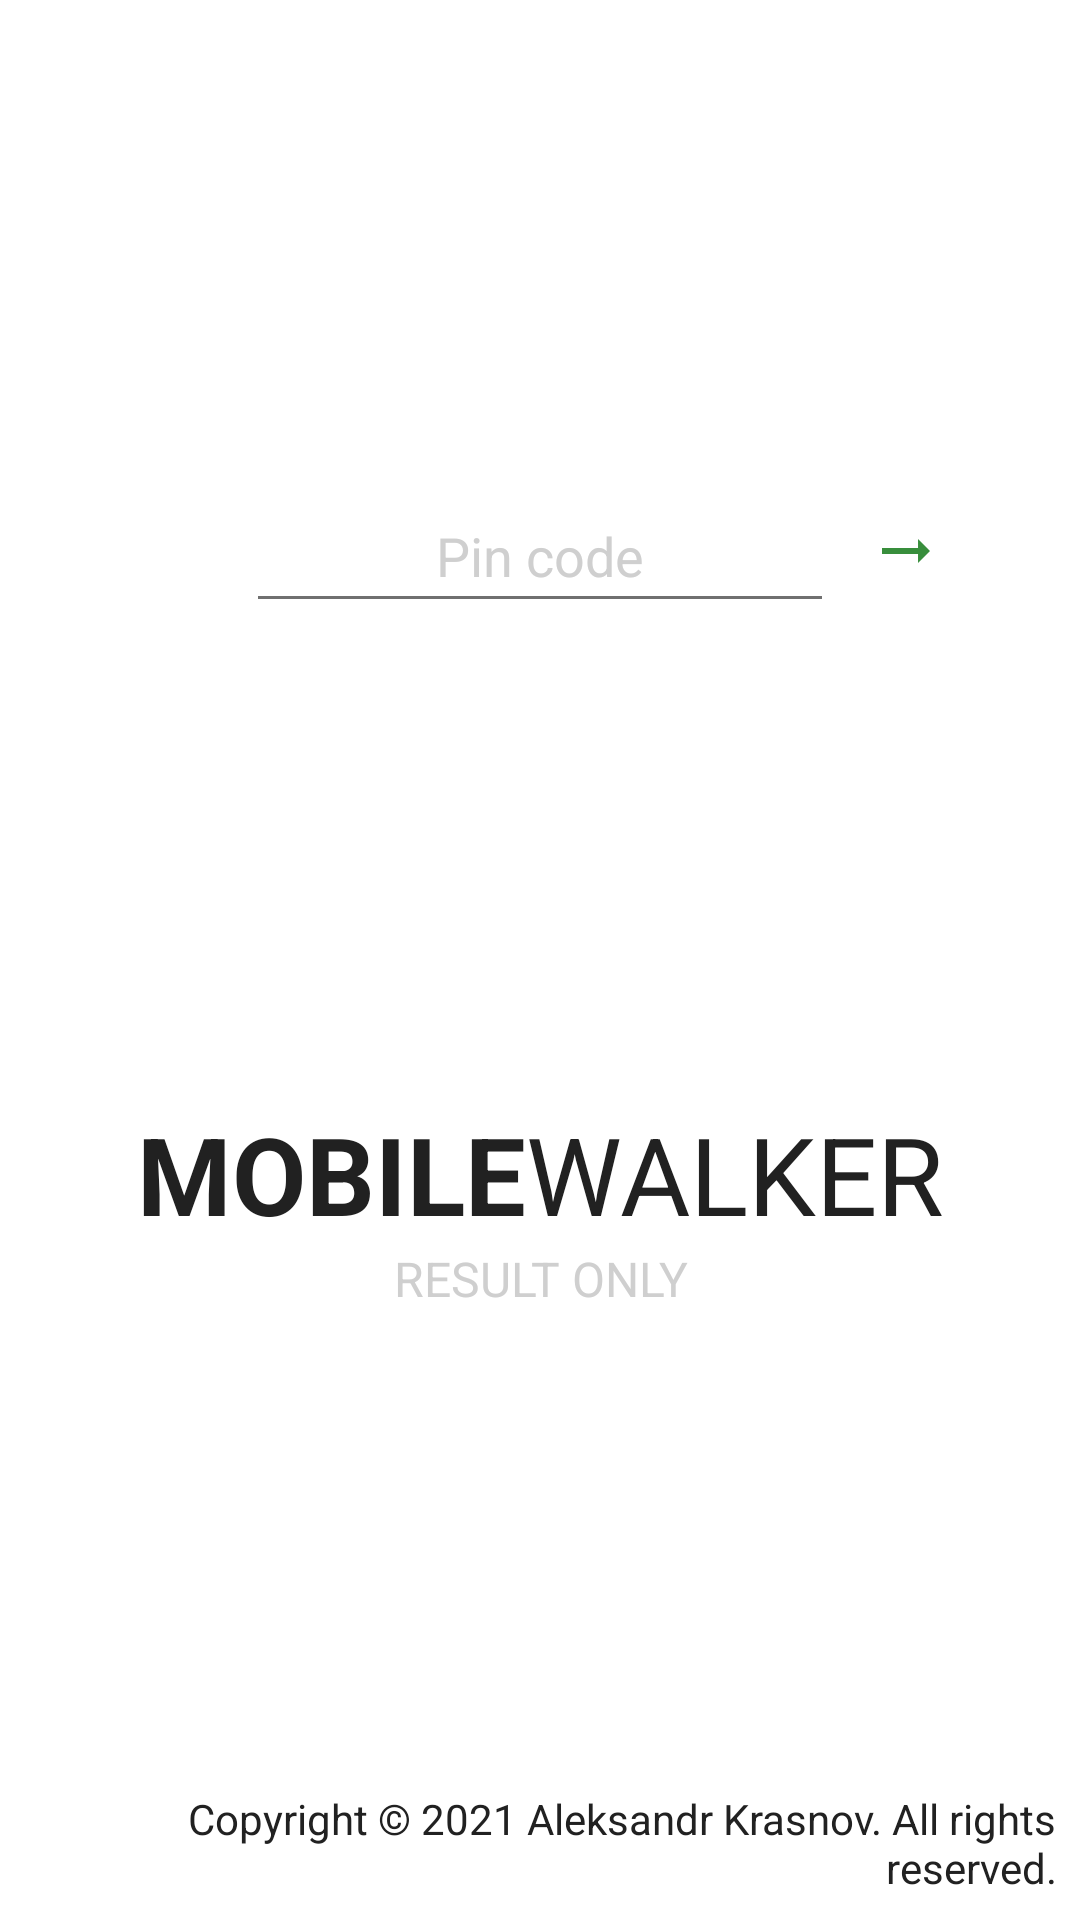

Named icons in this screenshot (1080px x 1920px) and their centers, point (x, y):
OK: point (906, 551)
